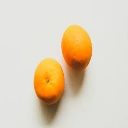orange: (33, 58, 66, 106)
